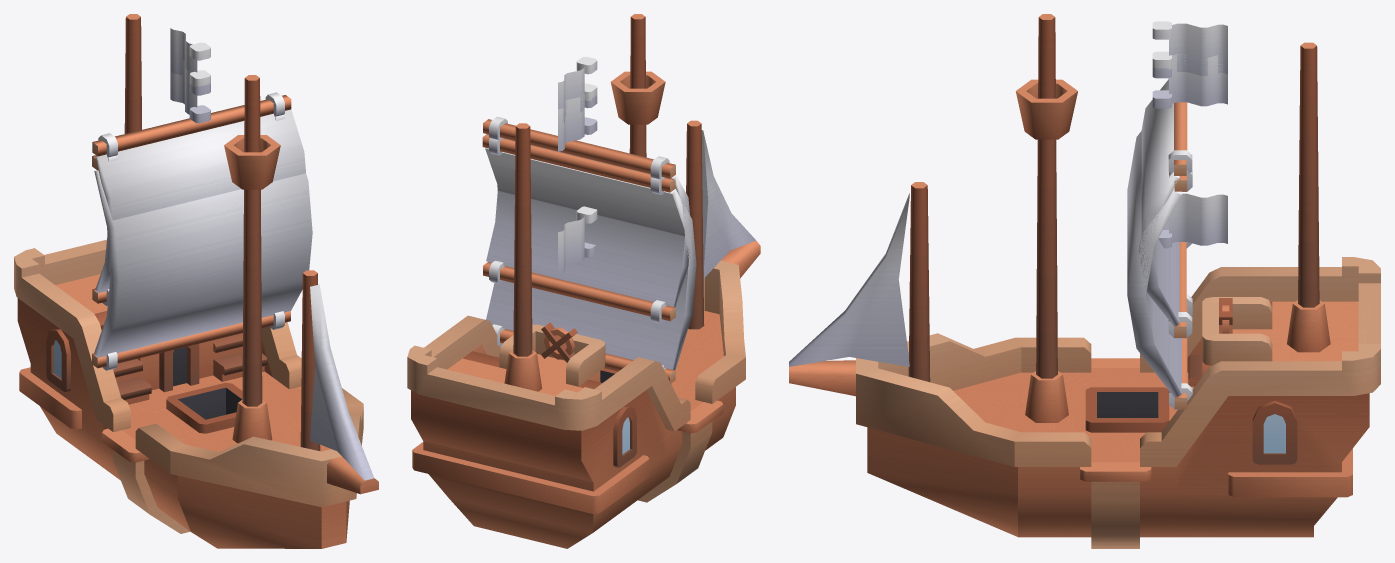
File: ship-small.glb
The picture shows the model from 3 angles, left to right: view 1: azimuth 30°, elevation 25°; view 2: azimuth 150°, elevation 25°; view 3: azimuth 270°, elevation 25°; orthographic projection. The views are drawn at different scales.
Parts seen in each view (by area): view 1: ship-small, ship-small.004, ship-small.005, ship-small.003, ship-small.002; view 2: ship-small, ship-small.004, ship-small.005, ship-small.001, ship-small.003, ship-small.002; view 3: ship-small, ship-small.005, ship-small.004, ship-small.002, ship-small.003, ship-small.001.
Boxes of the visible parts, box(x1,y1,x2,y2) form: ship-small: box(14, 14, 378, 548); ship-small.004: box(92, 114, 312, 370); ship-small.005: box(92, 92, 305, 305); ship-small.003: box(170, 56, 210, 123); ship-small.002: box(170, 28, 210, 95); ship-small: box(407, 14, 760, 548); ship-small.004: box(482, 134, 696, 383); ship-small.005: box(483, 116, 689, 323); ship-small.001: box(558, 206, 597, 274); ship-small.003: box(558, 83, 597, 151); ship-small.002: box(558, 56, 597, 123); ship-small: box(789, 14, 1380, 548); ship-small.005: box(1138, 78, 1192, 338); ship-small.004: box(1127, 102, 1192, 409); ship-small.002: box(1152, 21, 1227, 78); ship-small.003: box(1152, 51, 1227, 108); ship-small.001: box(1159, 193, 1227, 248).
Bounding box in the file's own units: 16.32 × 33.88 × 36.04.
1 material, 1 textured.
